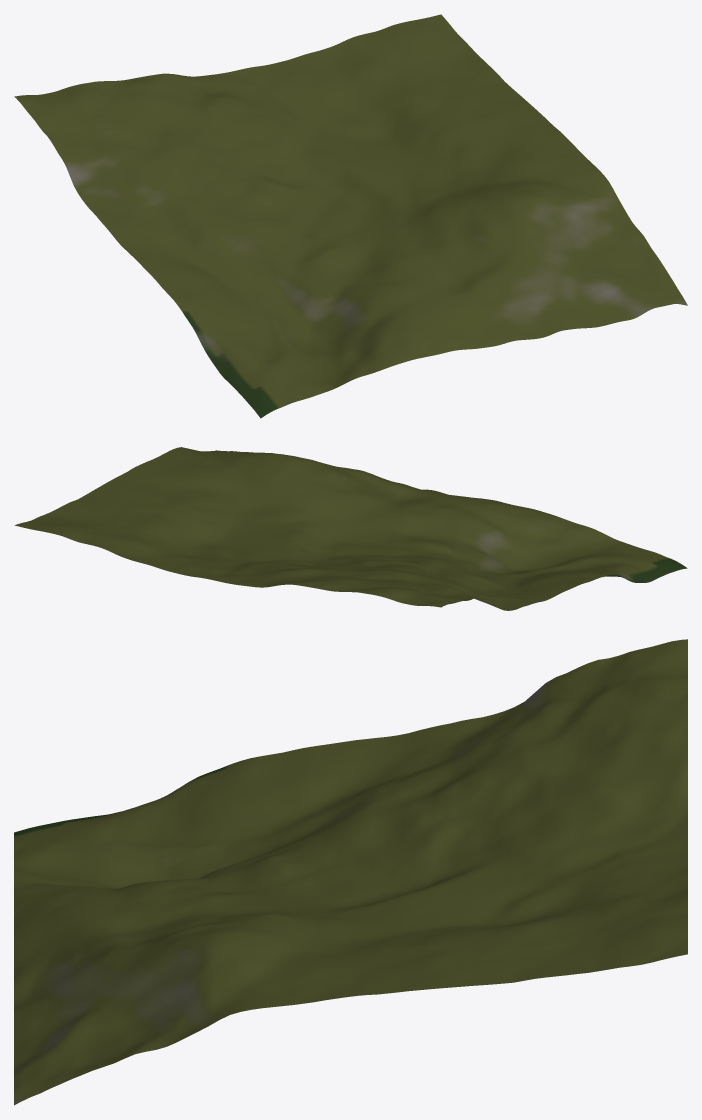
The model's file is terrain_13_-12.glb.
The picture shows the model from 3 angles, top to bottom: view 1: azimuth 30°, elevation 25°; view 2: azimuth 150°, elevation 25°; view 3: azimuth 270°, elevation 25°; orthographic projection. The views are drawn at different scales.
Parts seen in each view (by area): view 1: terrain_13_-12; view 2: terrain_13_-12; view 3: terrain_13_-12.
Part boxes in pixels (x1,y1,x2,y2): terrain_13_-12: (14,14,687,418); terrain_13_-12: (14,447,687,610); terrain_13_-12: (14,639,687,1105).
Size of the model in its own units: 256 by 80.95 by 256.
